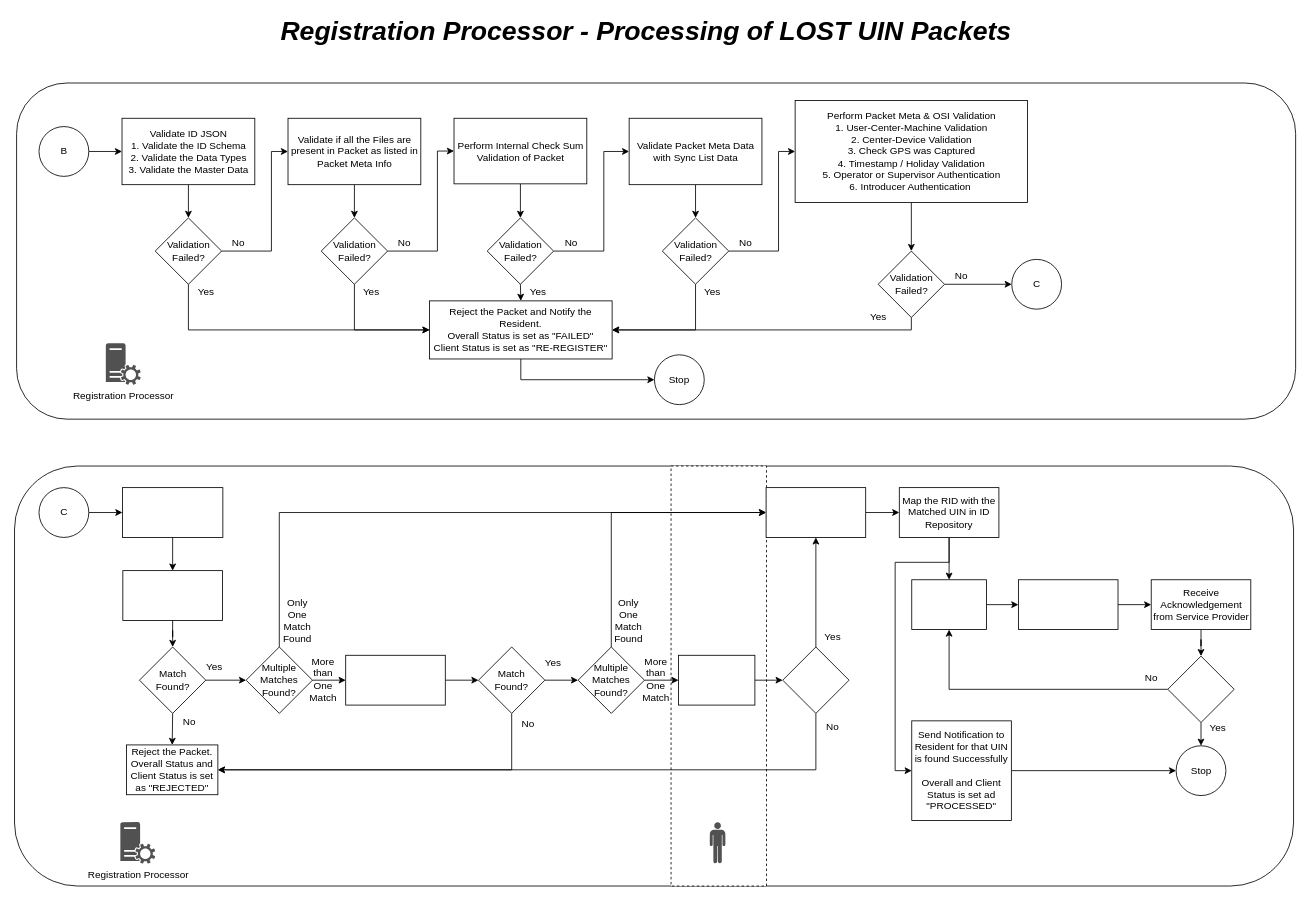
Some shapes in this 1311 by 901 pixel diagram are drawn without their labels. Here are the shapes that lost their labels. From the top down, the centre of each, then its label:
point 172,512: Perform Bio Dedupe
point 815,512: Get the UIN of the Matched from ID Repository
point 172,595: Perform 1:N Match using ABIS
point 948,604: Generate UIN Card
point 1068,604: Send UIN Card to Printing & Postal Service Provider via. Queue
point 395,679: Check the Demographic Data Captured and Try Finding a Match
point 716,679: Send Packet to Manual Verifier
point 815,679: Manual Verifier Finds Match?
point 1200,689: Ack Says Success?
point 717,842: Manual Verifier
